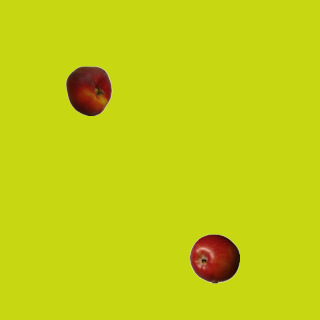Apple Braeburn: (189, 233, 239, 283)
Nectarine Flat: (63, 65, 113, 115)
